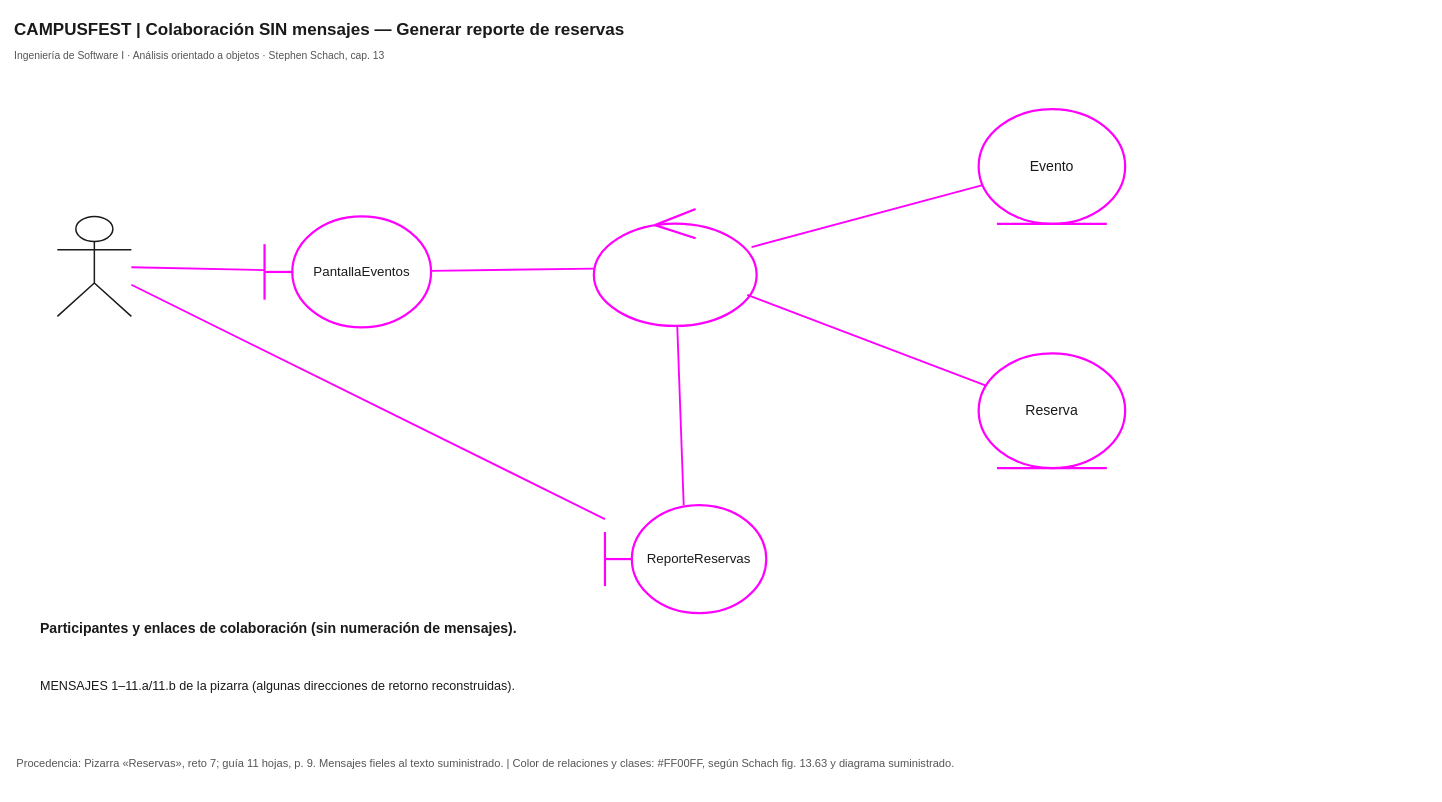
Image size: 1442x802. Some labels were removed from this diagram. The shapes that lost their labels are listed below. From the top down, each one's centre as x and y in pixels, then its label:
the point at 94,266: Organizador
the point at 674,267: GestiónReserva
